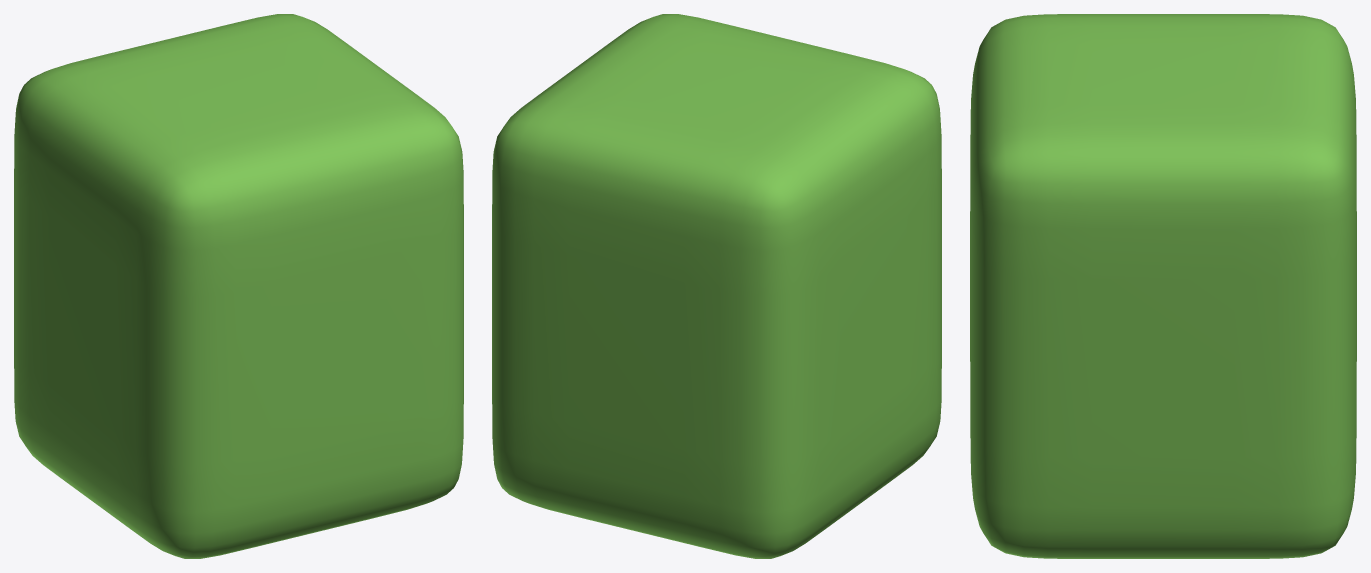
The model's file is SM_Hedge_Corner.fbx.
The picture shows the model from 3 angles, left to right: view 1: azimuth 30°, elevation 25°; view 2: azimuth 150°, elevation 25°; view 3: azimuth 270°, elevation 25°; orthographic projection. The views are drawn at different scales.
Parts seen in each view (by area): view 1: SM_Hedge_Corner; view 2: SM_Hedge_Corner; view 3: SM_Hedge_Corner.
Part boxes in pixels (x1,y1,x2,y2): SM_Hedge_Corner: (14,14,463,558); SM_Hedge_Corner: (492,14,941,558); SM_Hedge_Corner: (970,14,1356,558).
Size of the model in its own units: 94.98 by 115 by 94.98.
